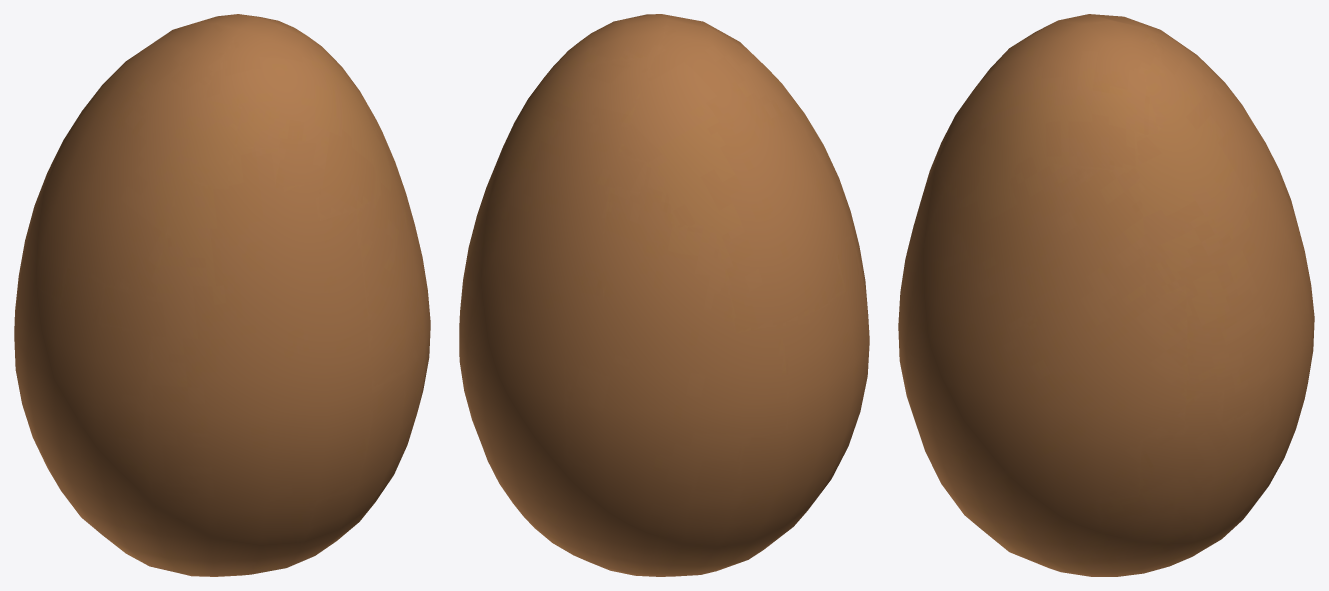
File: product-eggs.glb
3 views of the same model, side by side, from view 1: azimuth 30°, elevation 25°; view 2: azimuth 150°, elevation 25°; view 3: azimuth 270°, elevation 25° (orthographic).
Parts seen in each view (by area): view 1: n4; view 2: n4; view 3: n4.
Part boxes in pixels (<box>): n4: <box>14,14,430,576</box>; n4: <box>459,14,869,576</box>; n4: <box>898,14,1314,576</box>.
Size of the model in its own units: 0.1133 by 0.16 by 0.1135.
1 material, 1 textured.
